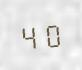four: (19, 21, 40, 50)
zero: (41, 20, 62, 48)
